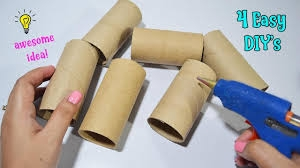paper: (77, 55, 148, 154), (145, 56, 221, 147), (35, 35, 102, 128), (200, 26, 271, 99), (83, 1, 144, 66), (127, 22, 209, 63)
